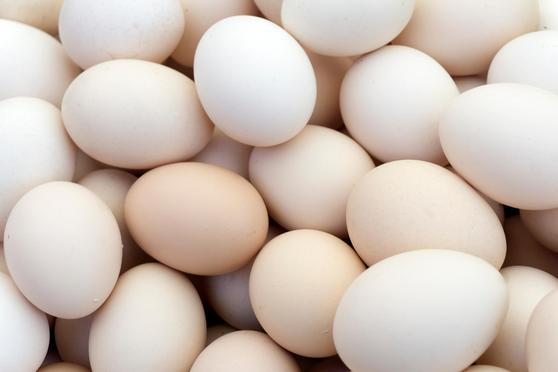egg: (329, 252, 509, 372), (56, 56, 211, 168), (192, 13, 318, 144), (124, 162, 271, 273), (339, 41, 462, 161), (445, 86, 558, 210)
